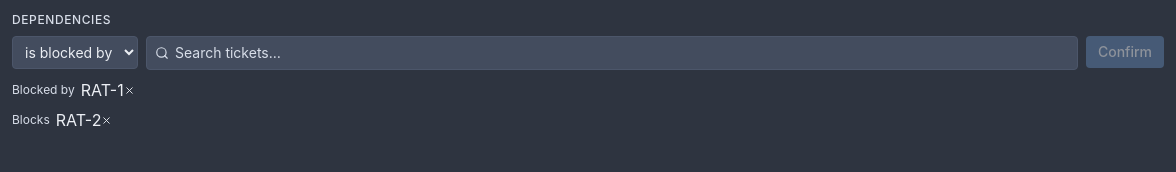
it: DependencyEditor › should exclude tickets already in blockedBy or blocks from picker results
Step 1. Click the field with placeholder "Search tickets…" → (623, 53), box [169,37,1077,69]
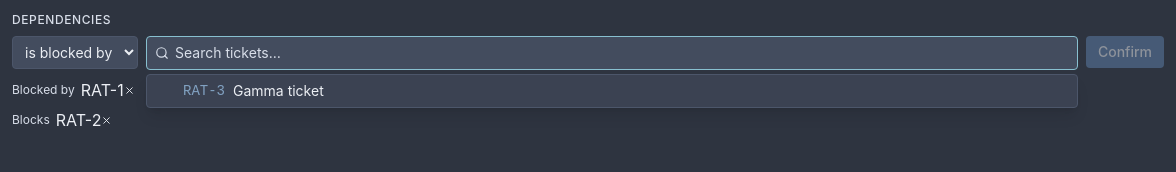
Expected: the text "Gamma ticket" is shown, [233,81,324,101]
